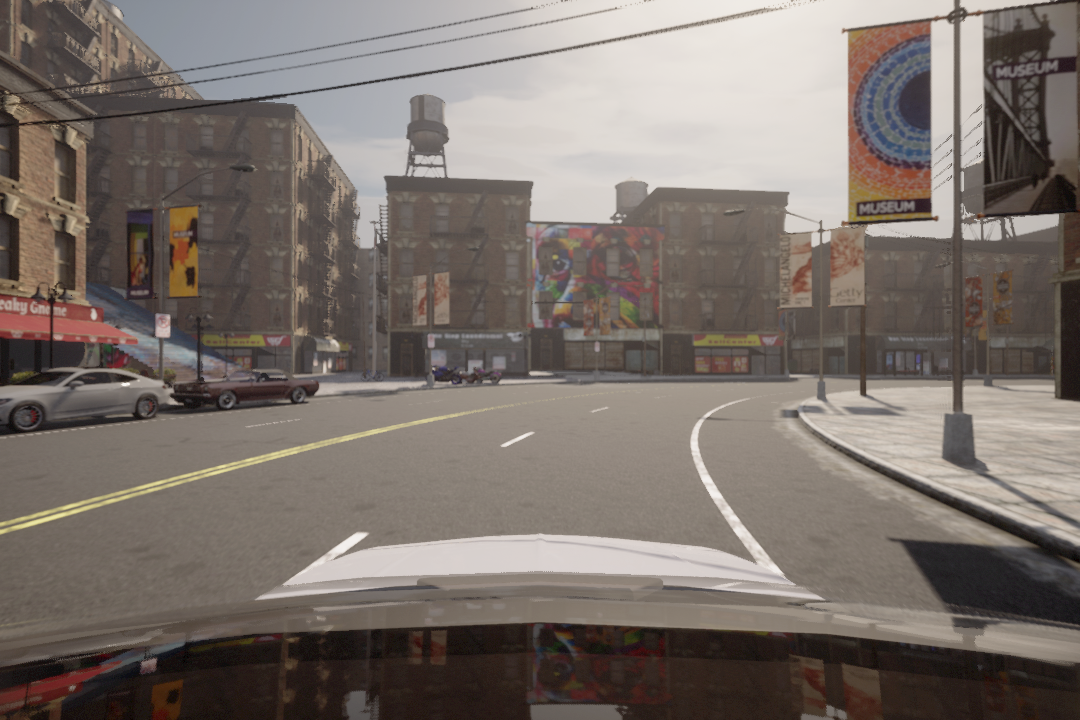TrafficSign_nstop: (156, 314, 171, 337)
